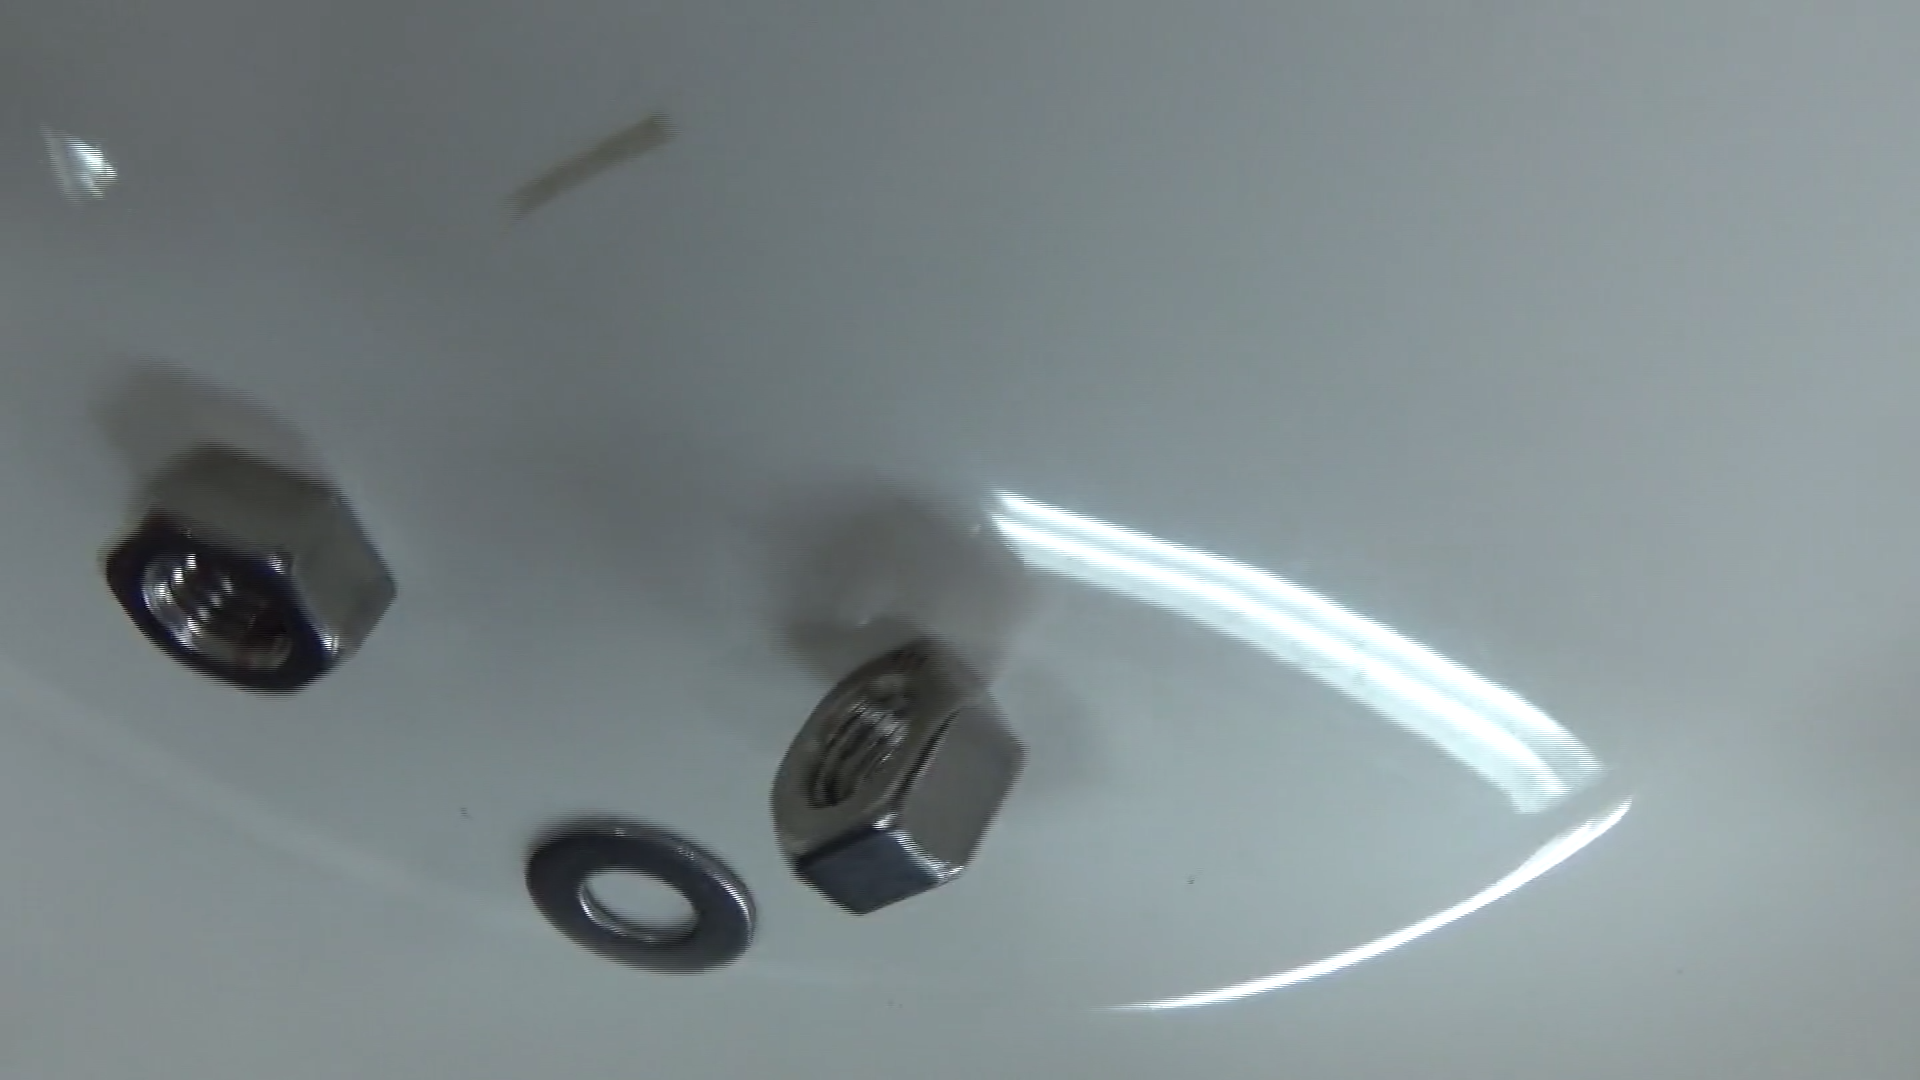nut: (94, 419, 417, 720), (761, 622, 1040, 924)
washer: (496, 806, 764, 988)
